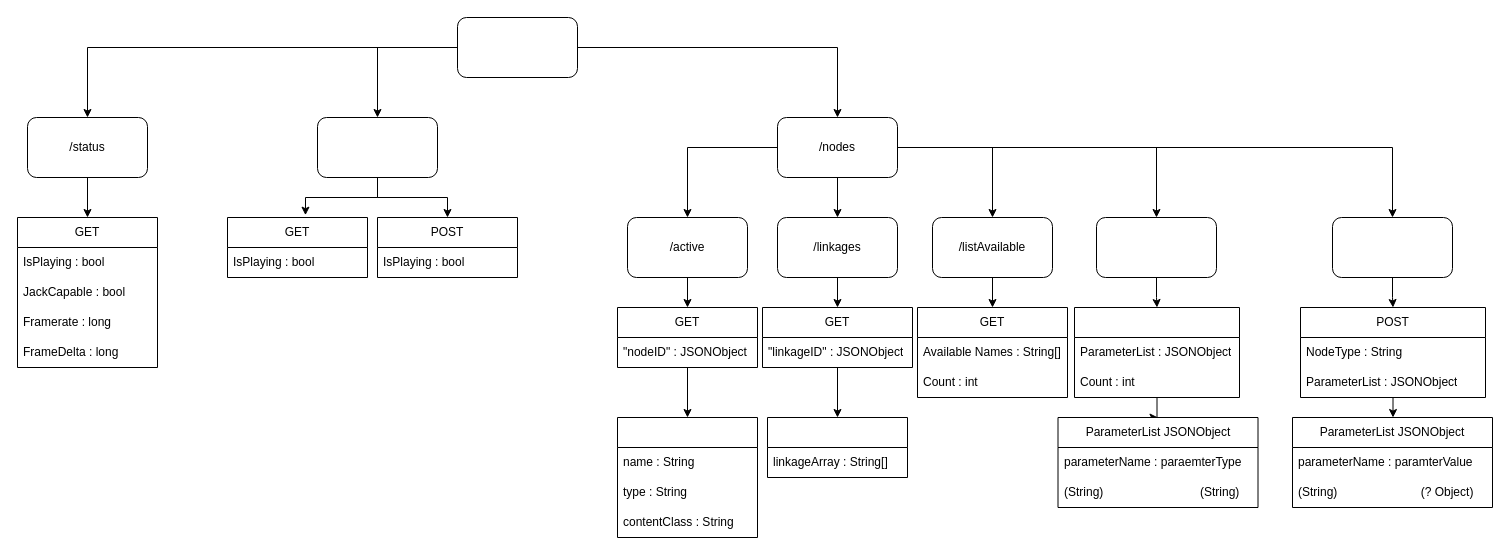
Image size: 1510x555. Some labels were removed from this diagram. The box of each missing label's shape, as (x1, y1, x2, y2) in pixels:
/api: (456, 16, 578, 78)
/create: (1332, 216, 1452, 278)
/details: (1096, 216, 1216, 278)
/transport: (316, 116, 438, 178)
GET (Name : String): (1074, 306, 1240, 398)
LinkageID JSONObject: (766, 416, 908, 478)
NodeID JSONObject: (616, 416, 758, 538)
